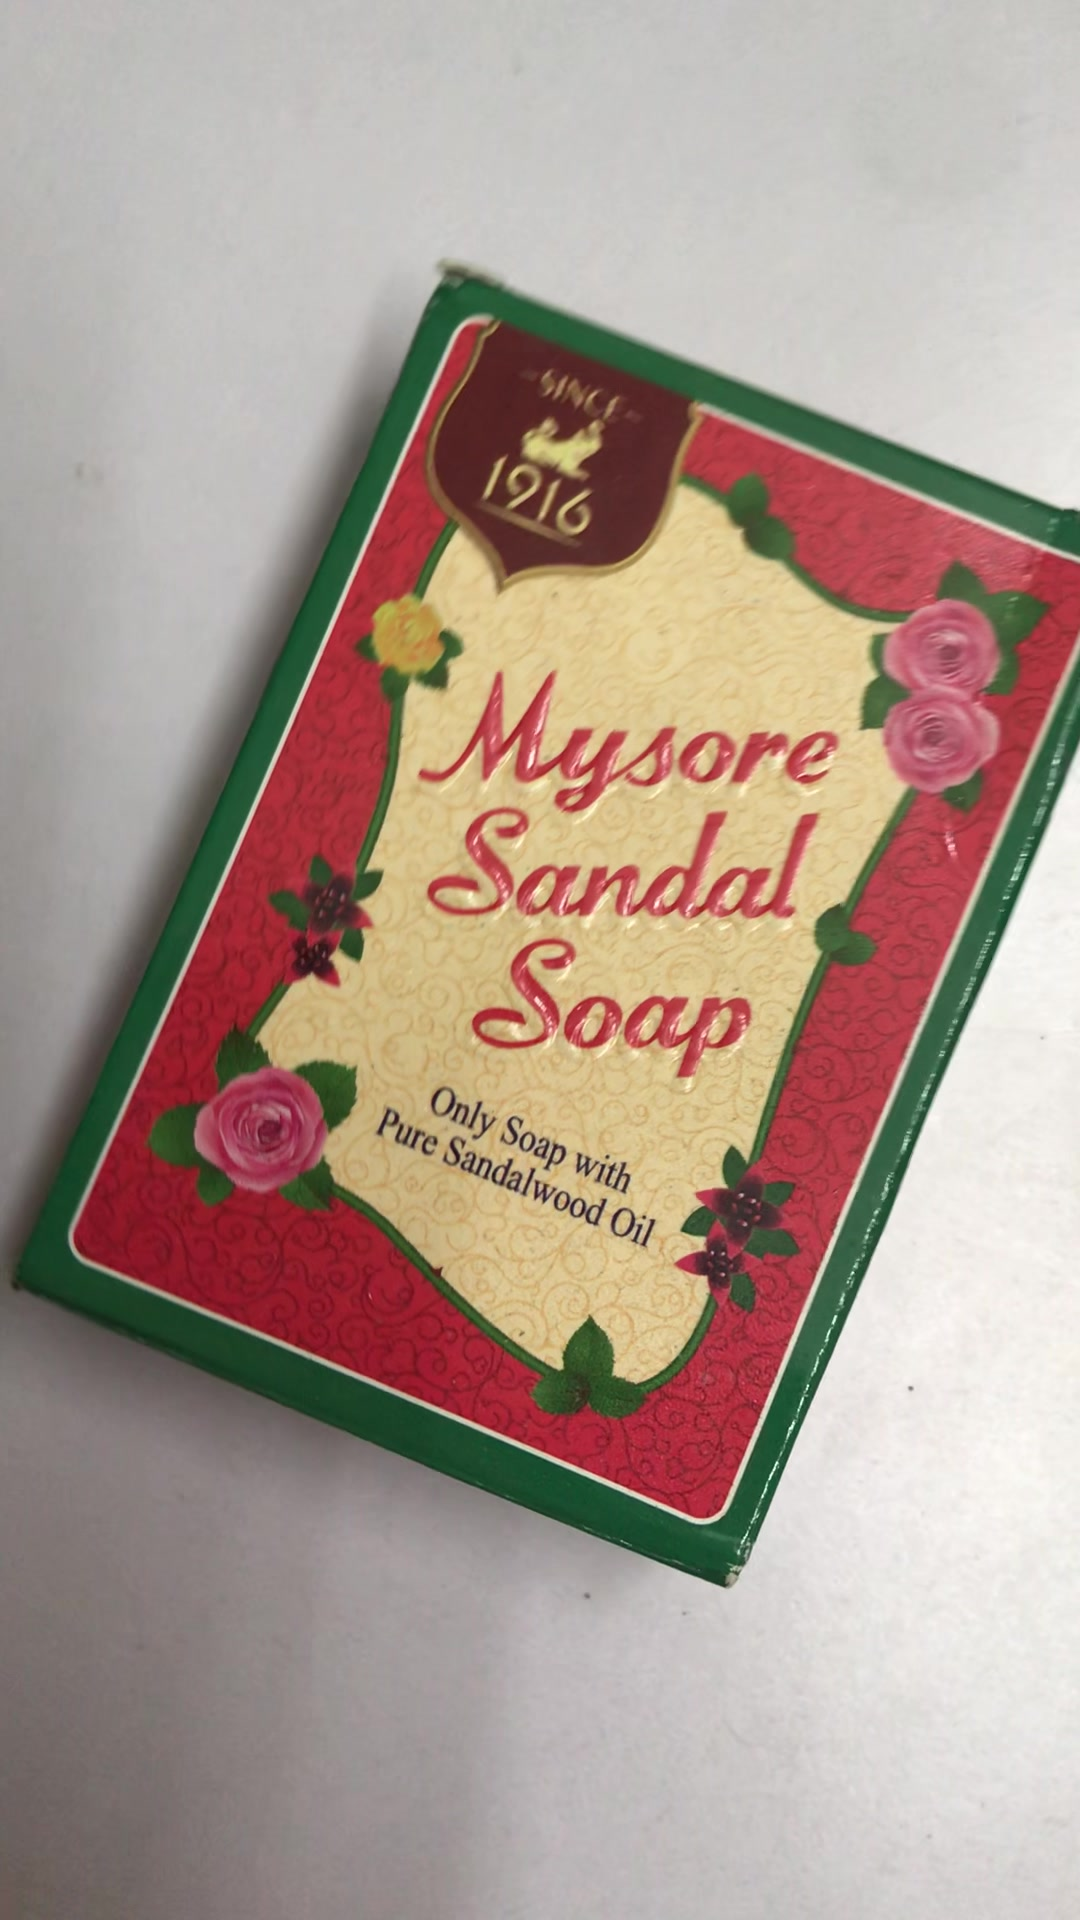mysore sandal soap: (20, 262, 1080, 1586)
